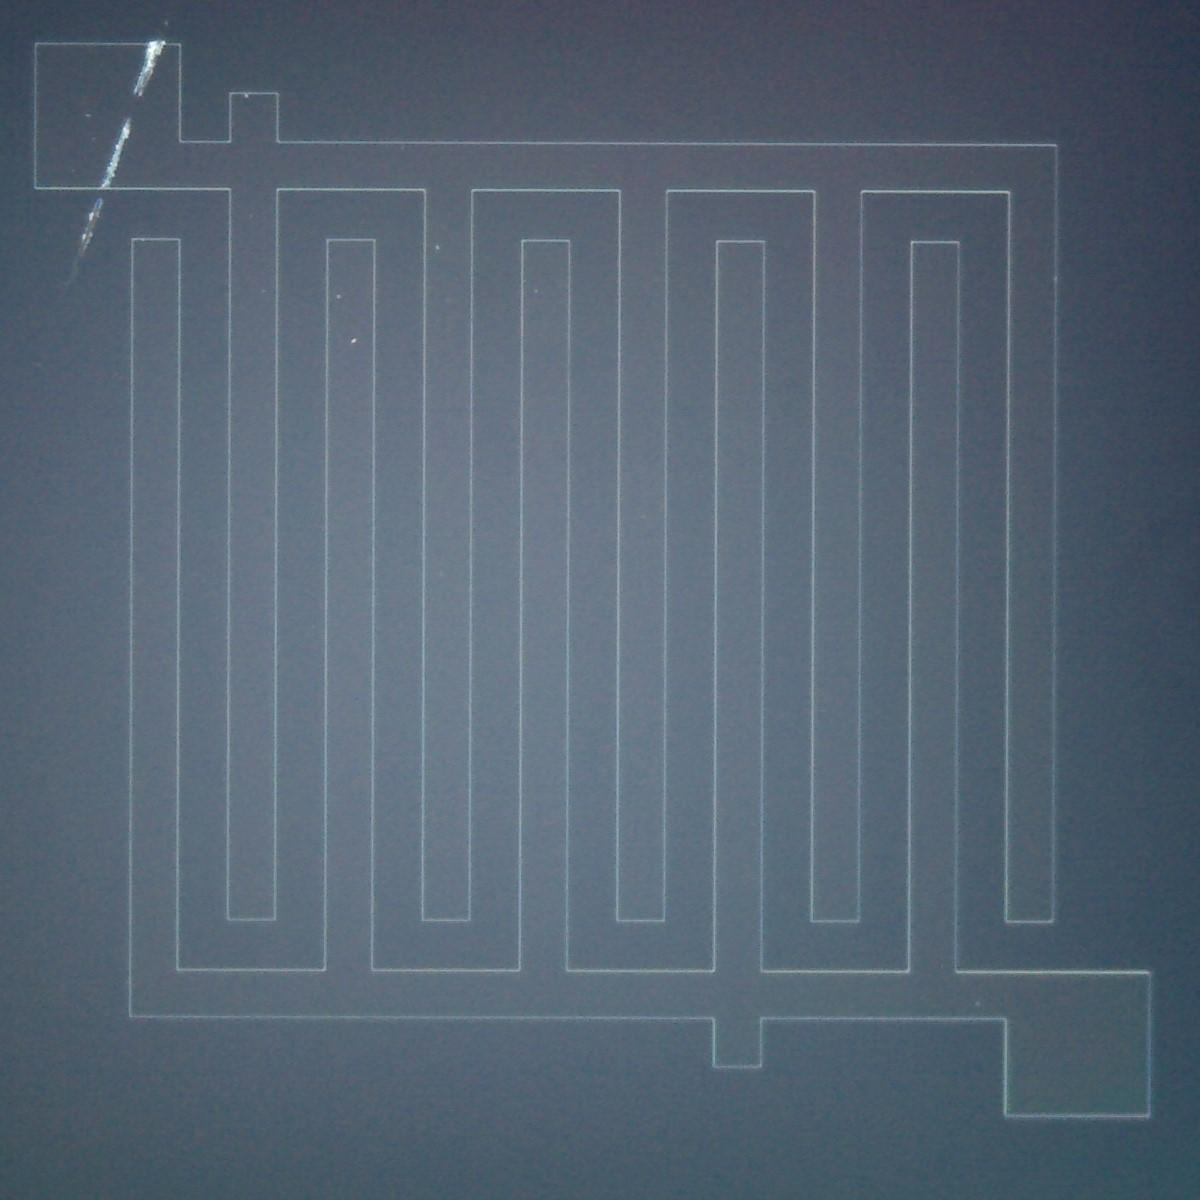project: (698, 1004, 777, 1078), (216, 85, 291, 160)
s_point: (397, 142, 408, 153), (88, 133, 99, 144), (333, 291, 344, 302), (348, 335, 359, 346), (531, 286, 542, 297), (82, 110, 92, 122), (162, 16, 171, 29), (258, 286, 269, 296), (246, 211, 256, 222), (433, 243, 443, 253), (242, 91, 252, 101), (974, 999, 982, 1009)
scratch: (60, 196, 105, 290), (100, 118, 135, 188), (133, 38, 167, 100)
